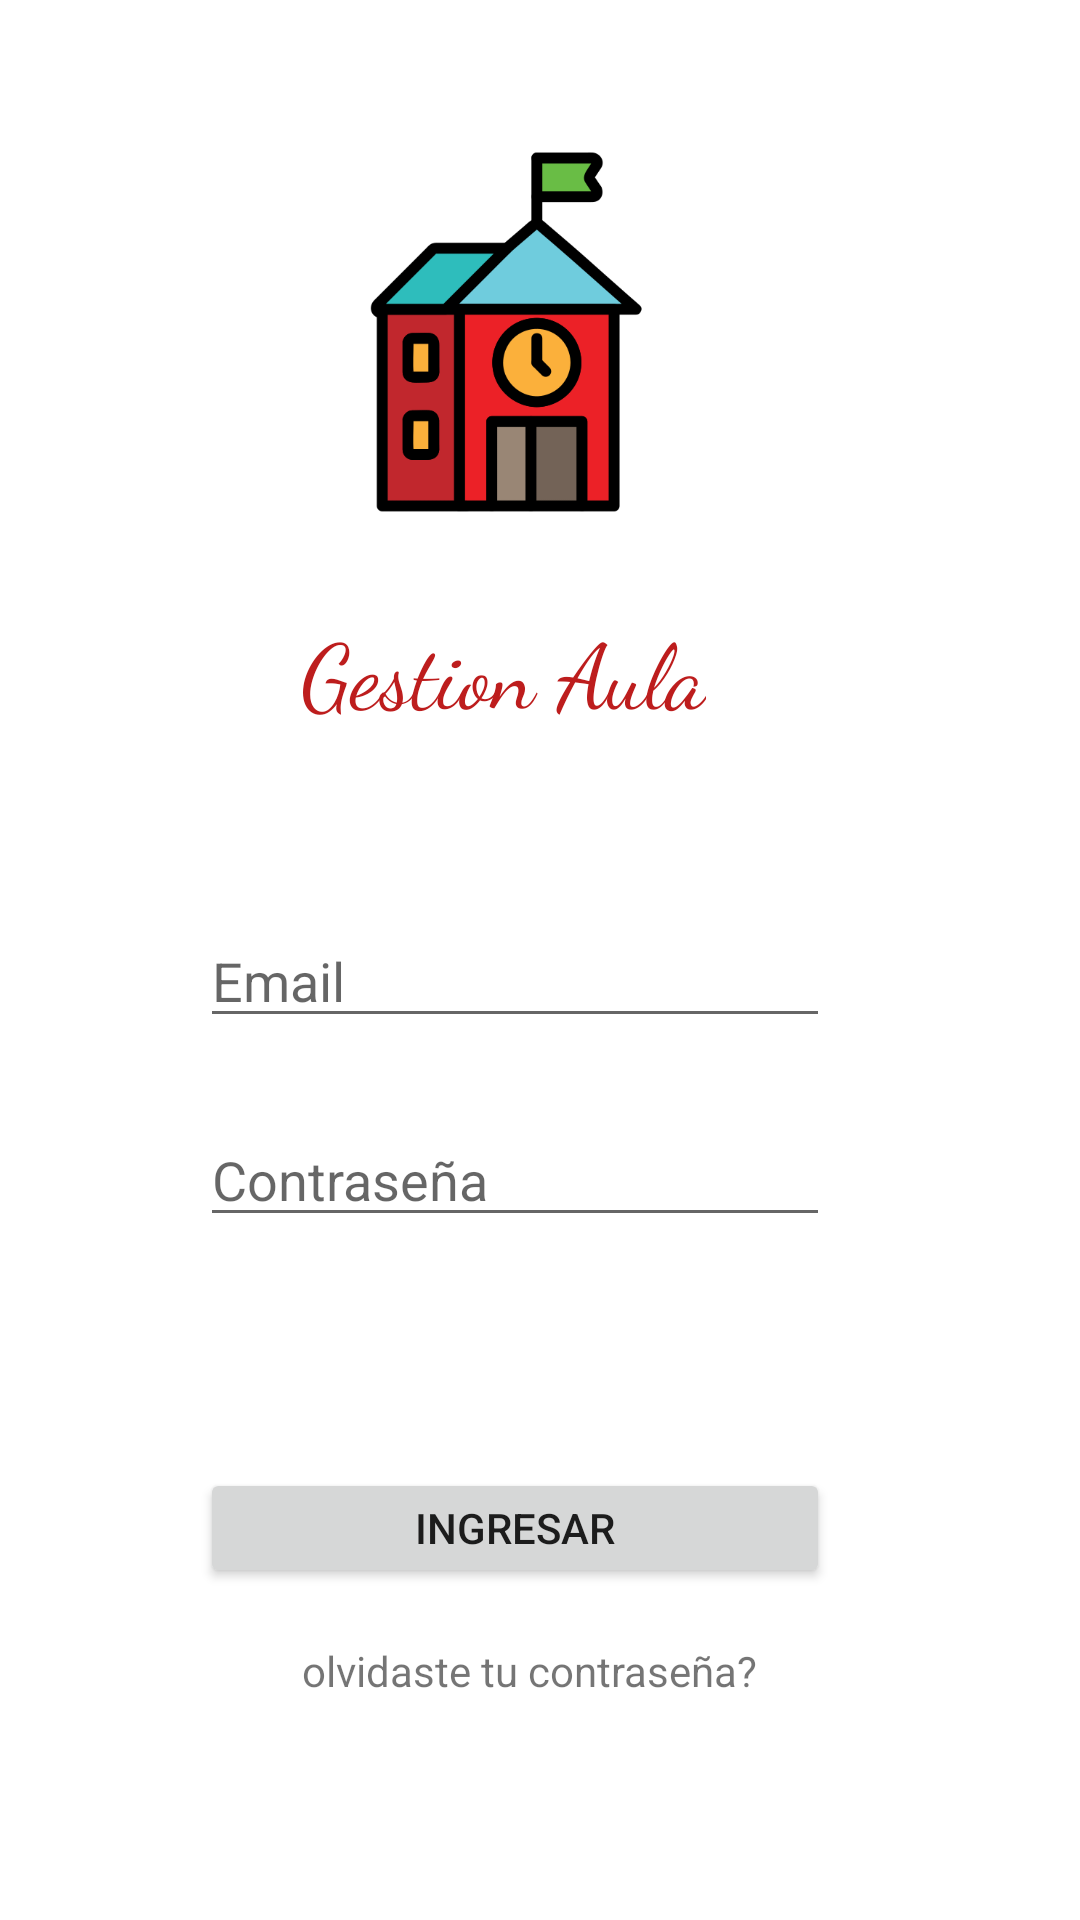

Screen size 1080 × 1920. Icon name, then its box in pixels as Rect(x1, y1, x2, y2):
insti: Rect(370, 152, 642, 512)
